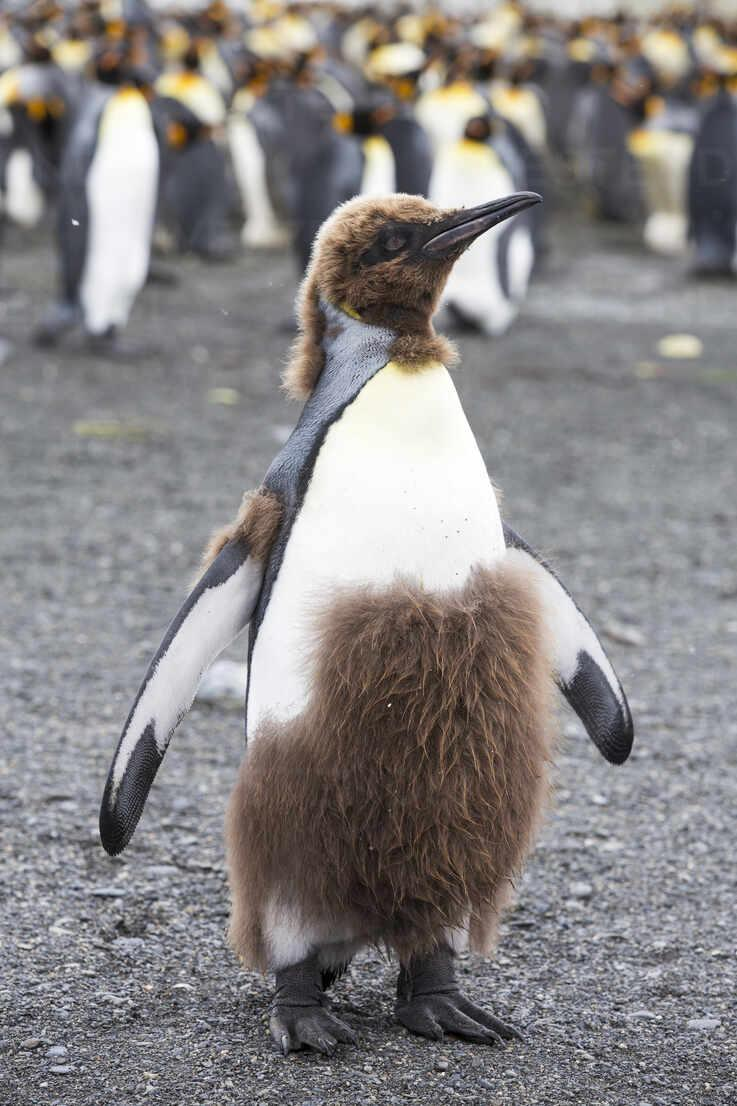Penguin: (98, 191, 633, 1054), (35, 48, 160, 352), (433, 217, 517, 338), (352, 86, 431, 195), (428, 115, 518, 208)
